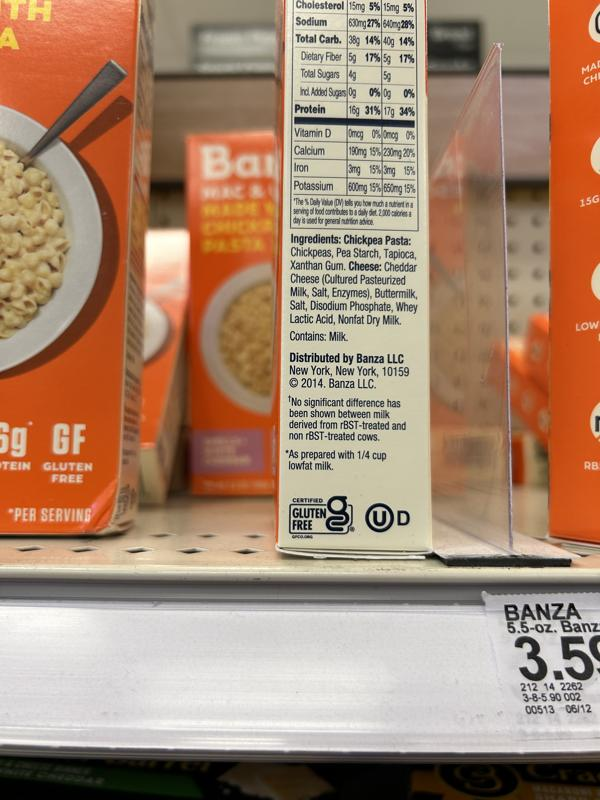ingredients: (288, 232, 422, 327)
